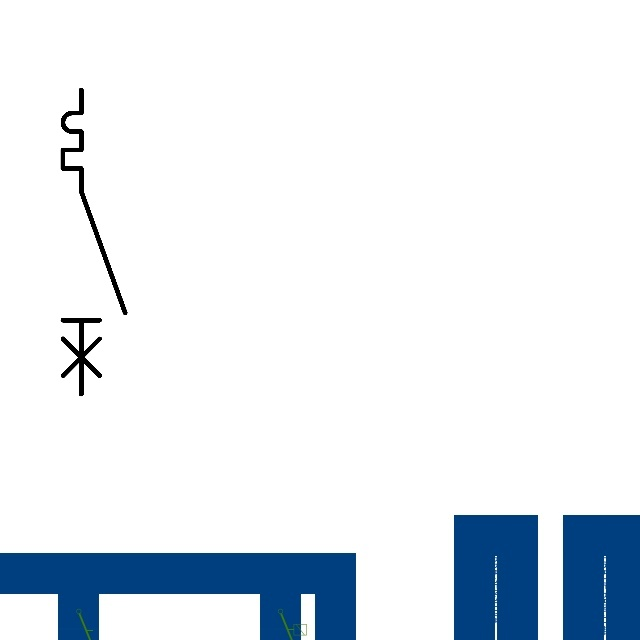interruptor_termomagnetico: (55, 82, 133, 402)
